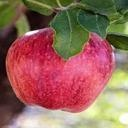apple: (5, 27, 116, 113)
